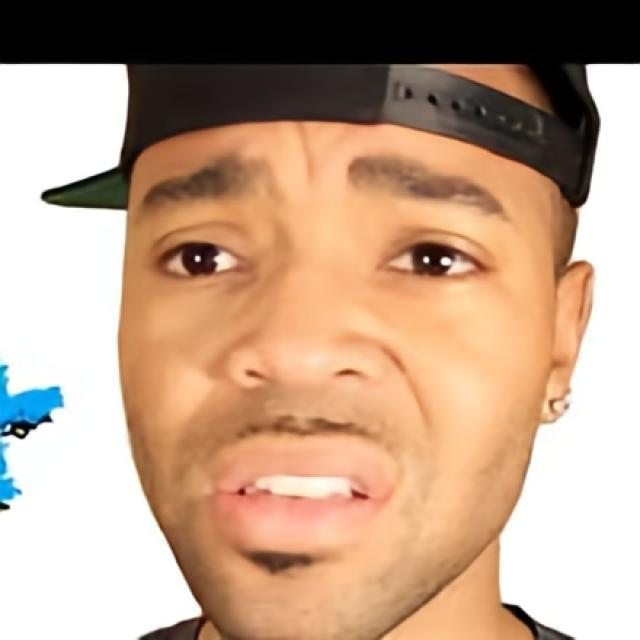disgust: (115, 63, 556, 640)
